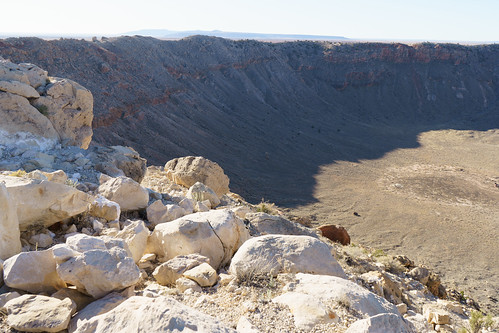rocks: (1, 61, 423, 333)
sky: (2, 1, 499, 36)
